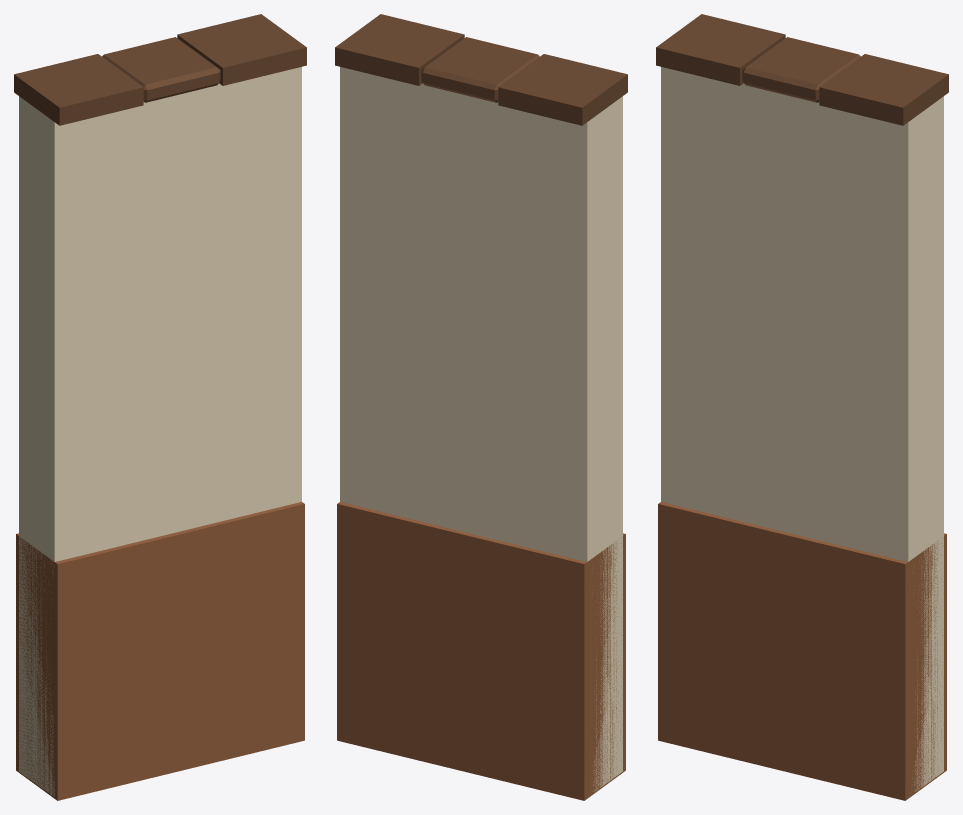
Rendered from wall.glb.
The picture shows the model from 3 angles, left to right: view 1: azimuth 30°, elevation 25°; view 2: azimuth 150°, elevation 25°; view 3: azimuth 330°, elevation 25°; orthographic projection.
Parts seen in each view (by area): view 1: wall; view 2: wall; view 3: wall.
Boxes of the visible parts, x1,y1,x2,y2 form: wall: (14,14,306,800); wall: (335,14,627,800); wall: (656,14,948,800).
Bounding box in the file's own units: 1 × 2.69 × 0.32.
